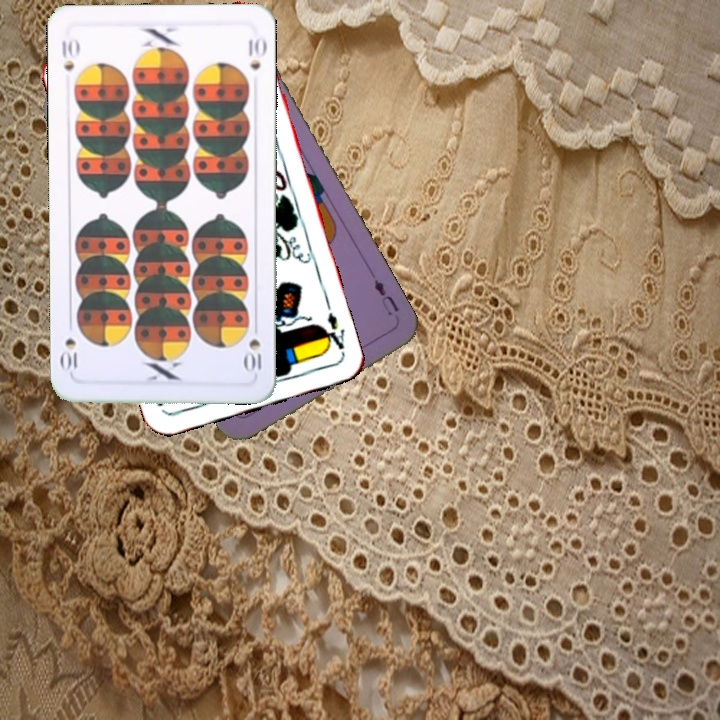EA: (317, 308, 347, 357)
EU: (370, 275, 402, 319)
S10: (242, 318, 264, 377), (57, 36, 81, 74)
